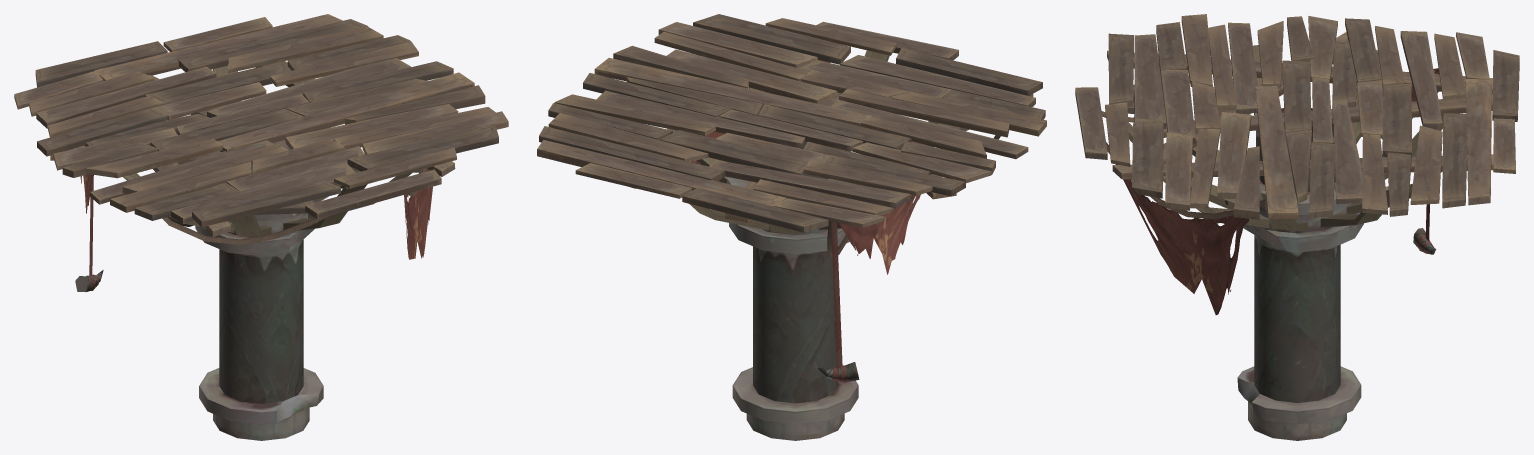
Rendered from Area_Common_Build_Hili_SentryPost_01_Lod0.fbx.
The picture shows the model from 3 angles, left to right: view 1: azimuth 30°, elevation 25°; view 2: azimuth 150°, elevation 25°; view 3: azimuth 270°, elevation 25°; orthographic projection. The views are drawn at different scales.
Parts seen in each view (by area): view 1: Area_Common_Build_Hili_SentryPost_01_Lod0; view 2: Area_Common_Build_Hili_SentryPost_01_Lod0; view 3: Area_Common_Build_Hili_SentryPost_01_Lod0.
Part boxes in pixels (bbox=[...]): Area_Common_Build_Hili_SentryPost_01_Lod0: bbox=[14, 14, 508, 440]; Area_Common_Build_Hili_SentryPost_01_Lod0: bbox=[537, 14, 1046, 440]; Area_Common_Build_Hili_SentryPost_01_Lod0: bbox=[1075, 14, 1519, 440].
Bounding box in the file's own units: 4.96 × 3.64 × 4.69.
3 materials, 3 textured.
